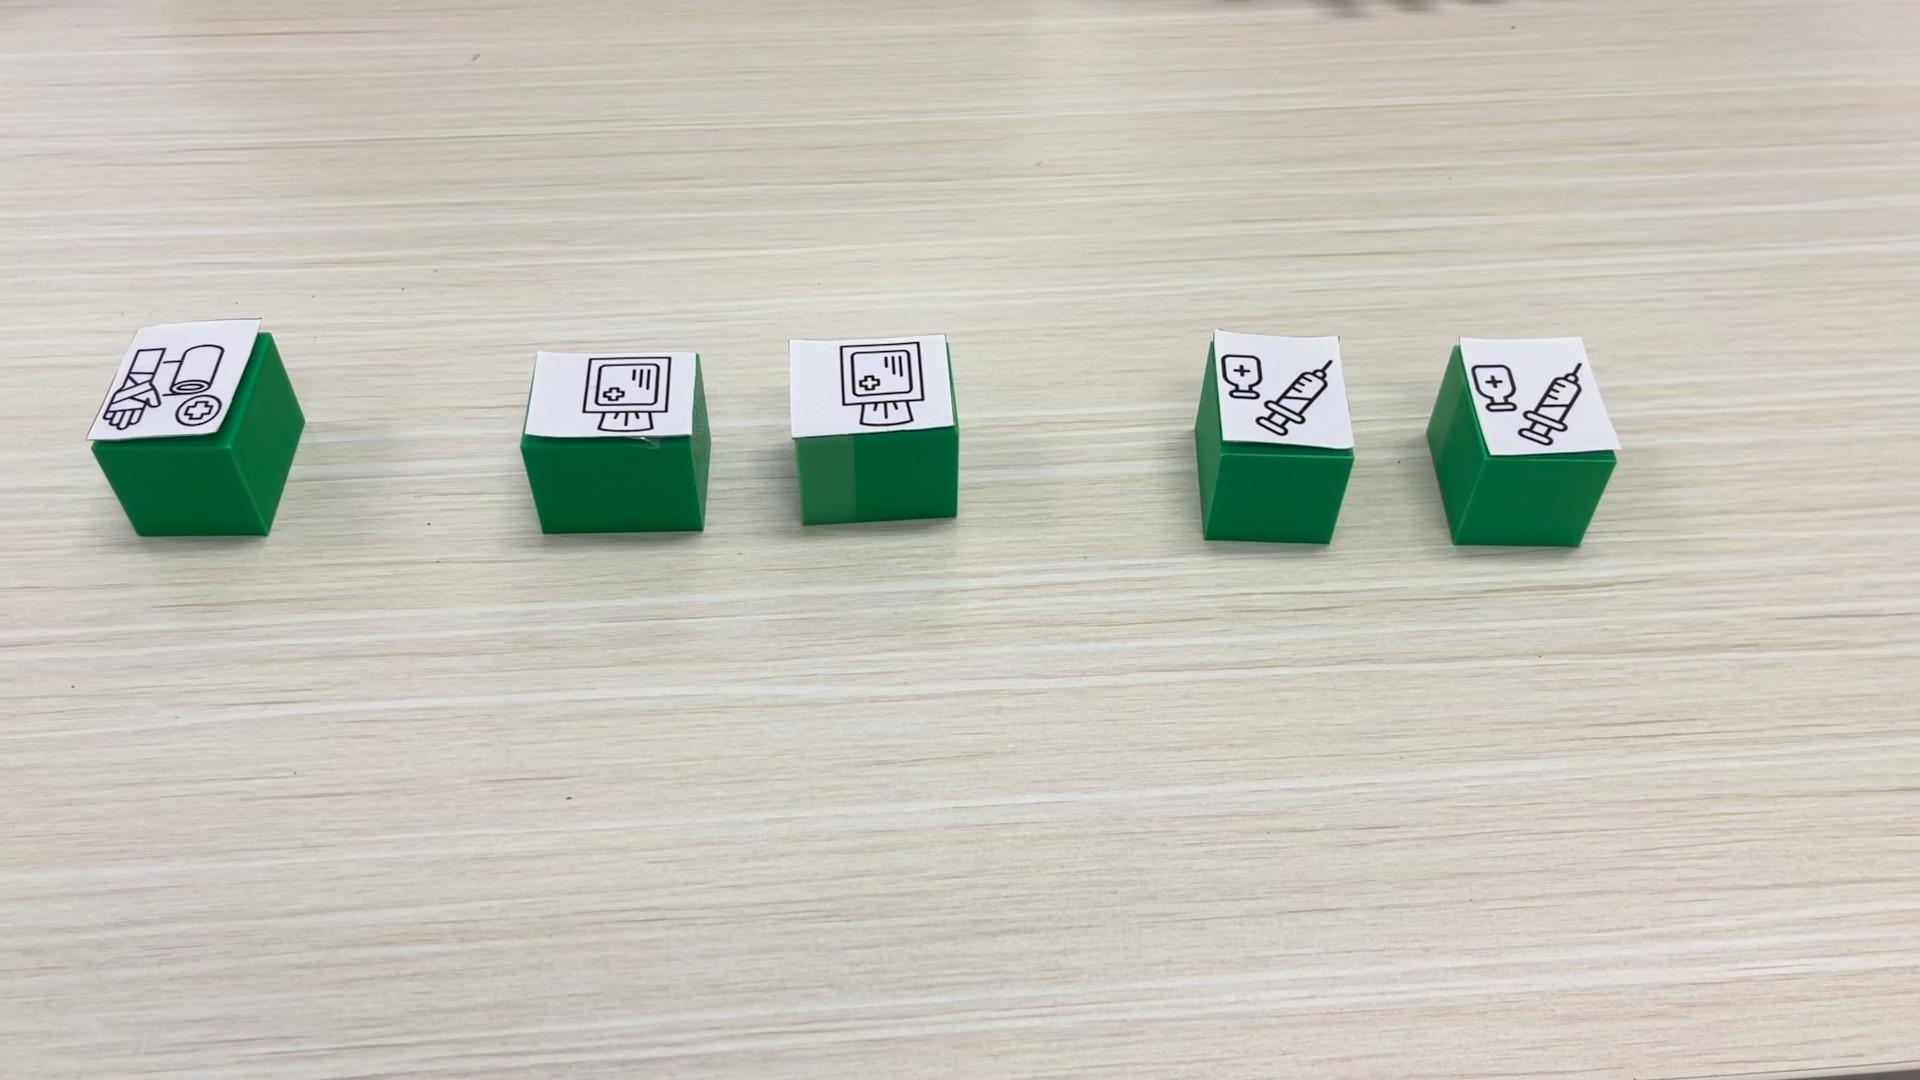Bandages: (86, 316, 305, 537)
Gauze: (520, 345, 708, 534), (786, 332, 961, 524)
antiseptic cream: (1425, 334, 1622, 546), (1192, 328, 1352, 545)
